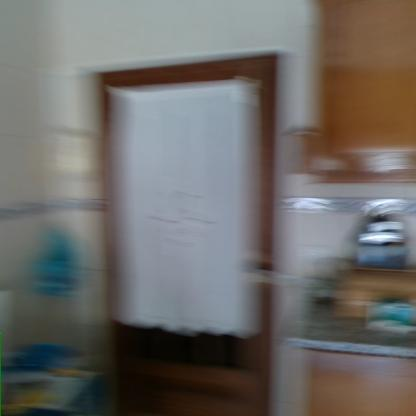closed: (74, 36, 300, 416)
